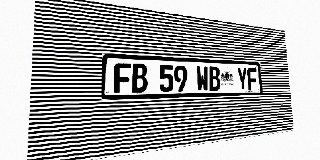5: (159, 64, 174, 92)
9: (174, 65, 188, 92)
B: (131, 63, 148, 93), (208, 66, 221, 91)
F: (114, 63, 131, 93), (247, 68, 258, 90)
W: (196, 66, 209, 91)
Y: (237, 67, 248, 90)
